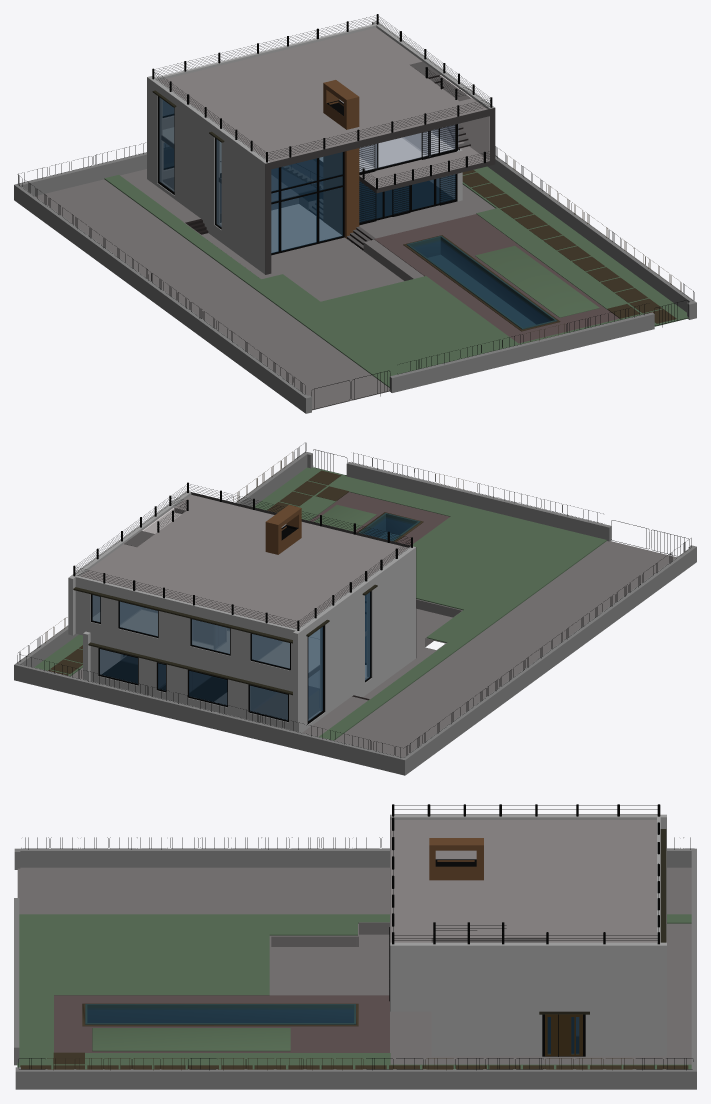
Rendered from villa.glb.
The picture shows the model from 3 angles, top to bottom: view 1: azimuth 30°, elevation 25°; view 2: azimuth 150°, elevation 25°; view 3: azimuth 270°, elevation 25°; orthographic projection. The views are drawn at different scales.
Parts seen in each view (by area): view 1: Rectangle001, Line001, Box055, Line037, Box032, Rectangle002, Box119, Line038, Rectangle004, Line012, Box029, Box133 (+15 smaller); view 2: Rectangle001, Box055, Line001, Line037, Box034, Box032, Line038, Line039, Rectangle002, Box070, Box037, Rectangle004 (+15 smaller); view 3: Rectangle001, Box055, Line001, Line037, Box037, Rectangle002, Box033, Box025, Box029, Box133, Rectangle004, Box032 (+6 smaller).
Boxes of the visible parts, x1,y1,x2,y2 form: Rectangle001: (35, 169, 687, 410); Line001: (104, 166, 688, 387); Box055: (159, 27, 487, 162); Line037: (14, 152, 696, 413); Box032: (147, 76, 269, 274); Rectangle002: (374, 214, 619, 343); Box119: (271, 152, 342, 253); Line038: (389, 312, 654, 392); Rectangle004: (323, 80, 359, 238); Line012: (220, 108, 495, 274); Box029: (475, 246, 599, 317); Box133: (413, 240, 549, 327); Rectangle001: (71, 541, 676, 757); Box055: (80, 495, 408, 629); Line001: (34, 467, 606, 740); Line037: (14, 451, 696, 775); Box034: (75, 576, 296, 730); Box032: (293, 546, 415, 732); Line038: (346, 462, 611, 541); Line039: (93, 602, 319, 672); Rectangle002: (310, 492, 449, 545); Box070: (102, 656, 226, 701); Box037: (68, 491, 191, 635); Rectangle004: (265, 505, 301, 554); Rectangle001: (17, 867, 691, 1064); Box055: (390, 820, 656, 942); Line001: (17, 914, 691, 1069); Line037: (14, 848, 696, 1089); Box037: (390, 942, 666, 1011); Rectangle002: (54, 995, 389, 1052); Box033: (431, 1011, 666, 1056); Box025: (85, 1004, 355, 1022); Box029: (92, 1028, 290, 1051); Box133: (87, 1009, 353, 1022); Rectangle004: (429, 838, 483, 880); Box032: (390, 814, 666, 936).
Bounding box in the file's own units: 27.05 × 9.79 × 34.99.
